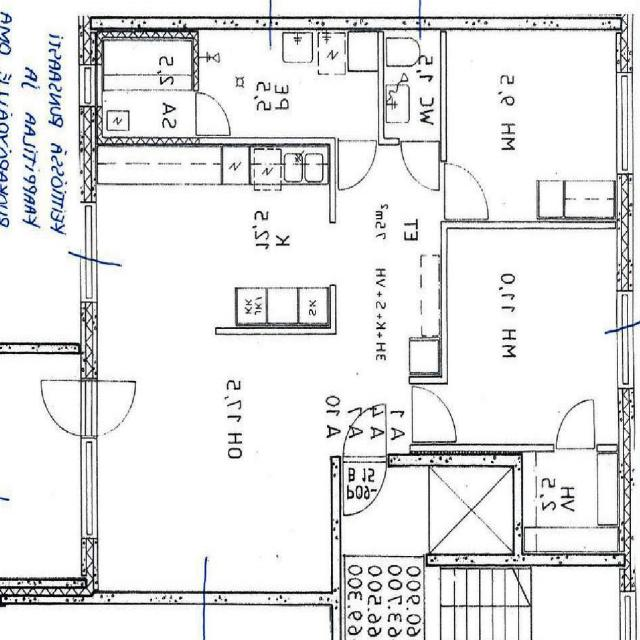door: (36, 380, 96, 436), (79, 380, 139, 436), (343, 399, 386, 466), (343, 454, 386, 521), (410, 387, 460, 442), (442, 163, 490, 219), (557, 396, 595, 452), (401, 137, 439, 193), (339, 137, 376, 194), (193, 92, 232, 135)
